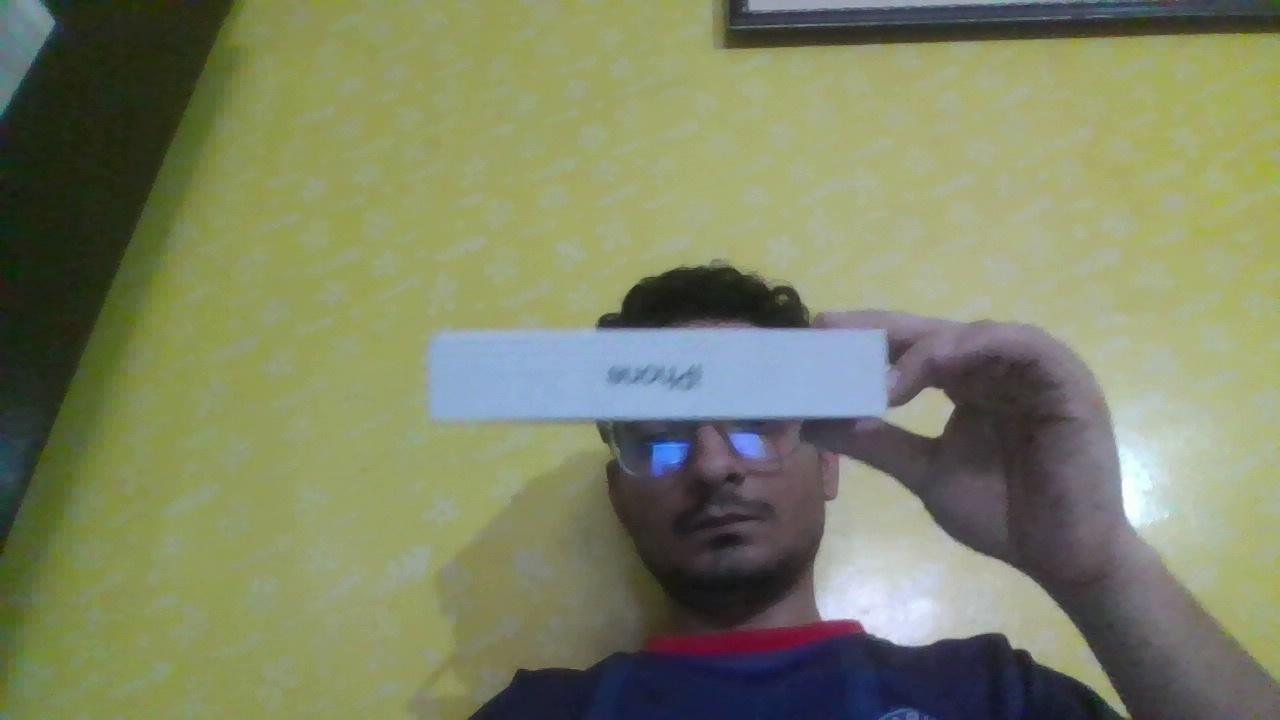Phone: (411, 317, 921, 435)
